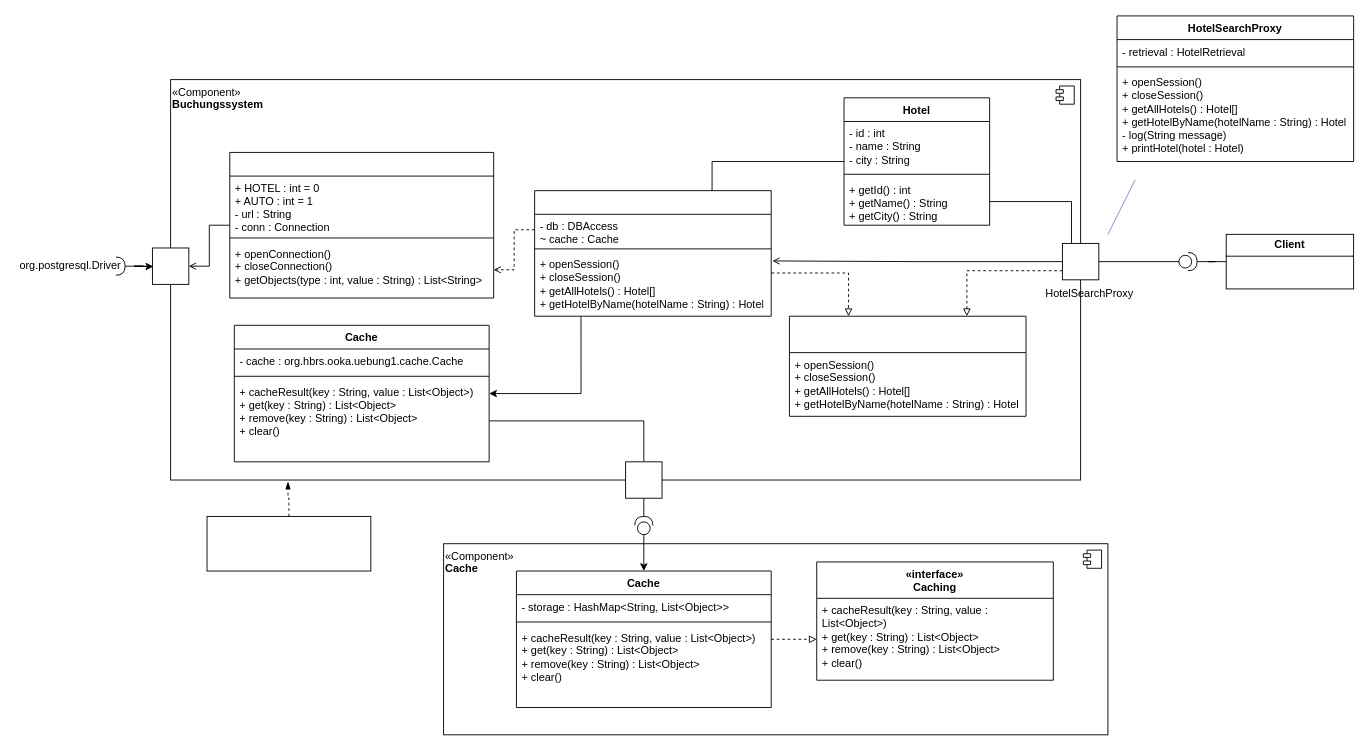
This 1370x751 diagram has some shape labels left out. The shapes that lost their labels are listed below. From the top down, each one's box as (x1, y1, x2, y2) in pixels, then its label:
(229, 152, 494, 298): DBAccess
(534, 190, 771, 316): HotelRetrieval
(789, 315, 1026, 416): «interface» HotelSearch
(206, 516, 371, 571): <<artifact>> Buchungssystem.jar
